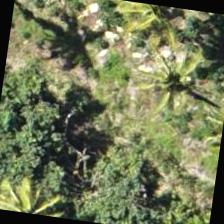Kelapa_Sawit: (120, 26, 222, 128)
